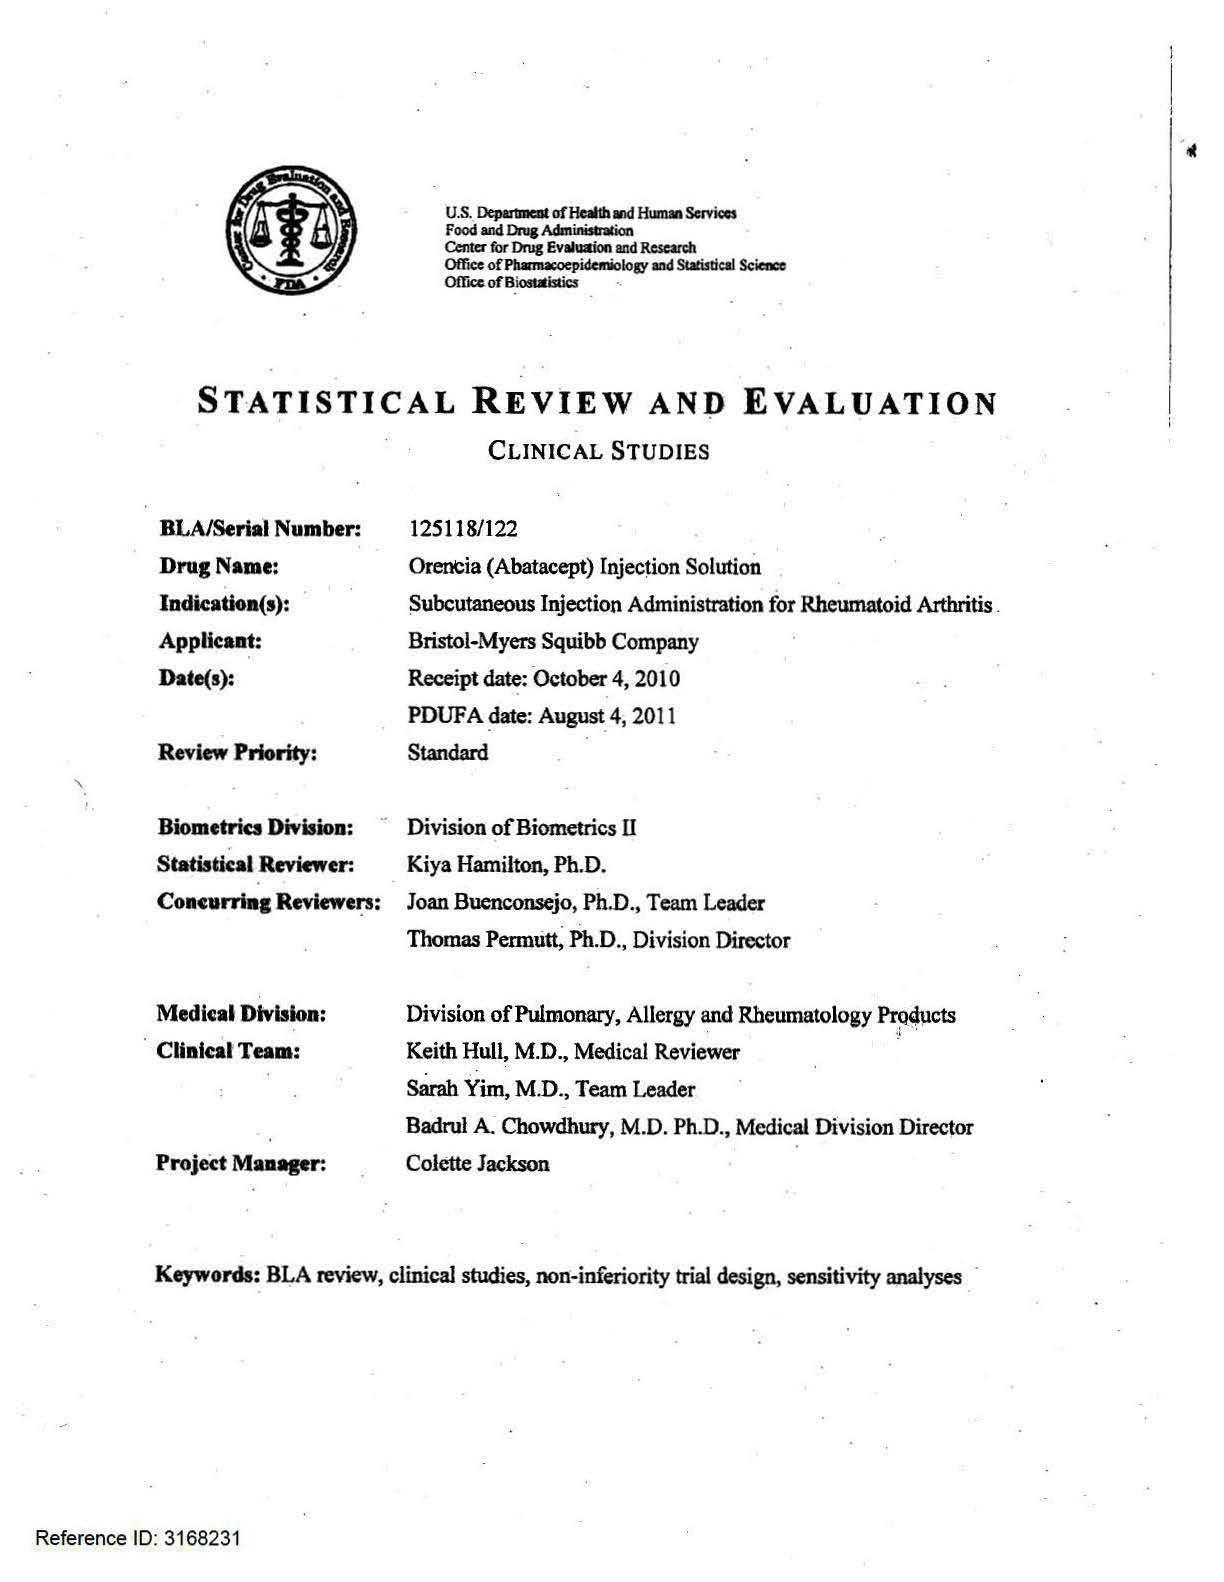nolines: (152, 512, 1002, 1181)
